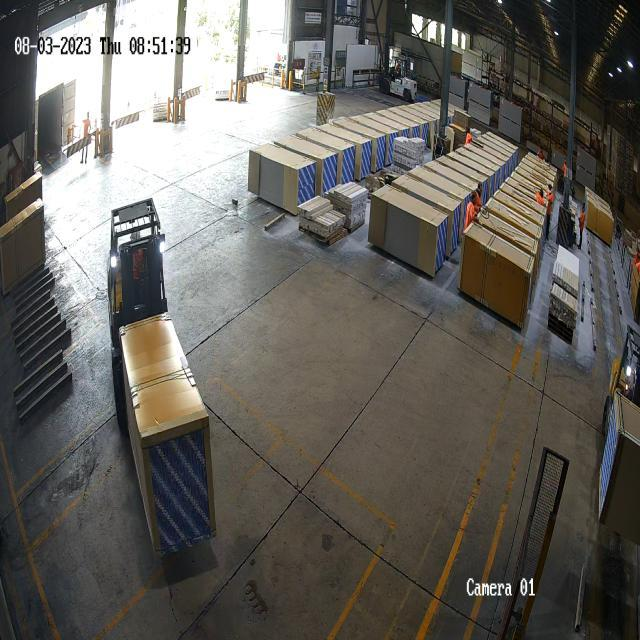driver: (130, 228, 146, 284)
forklift: (100, 186, 170, 316), (380, 56, 418, 102)
person: (466, 192, 478, 226), (547, 186, 554, 240), (578, 204, 585, 246), (82, 110, 92, 137), (476, 184, 483, 208), (536, 189, 544, 206)
